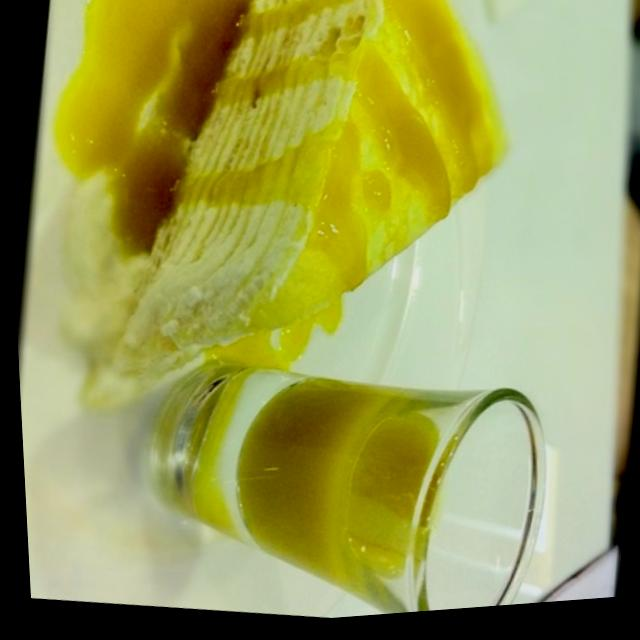蛋糕甜品: (45, 0, 608, 452)
